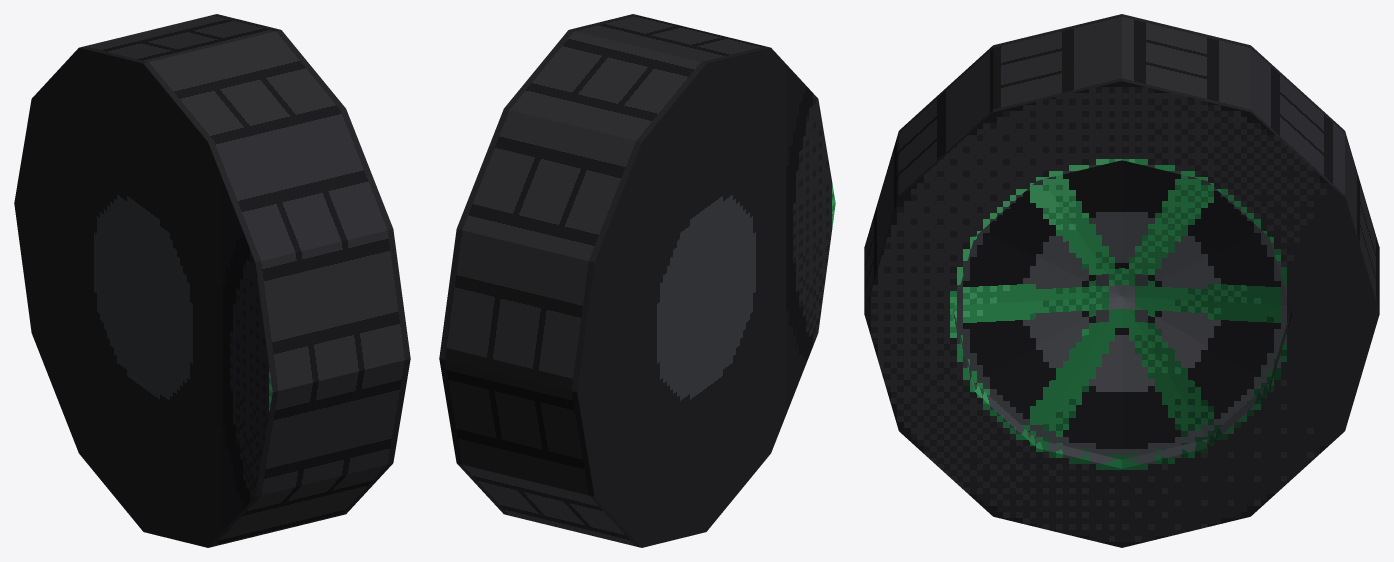
Rendered from wheel_six.glb.
3 views of the same model, side by side, from view 1: azimuth 30°, elevation 25°; view 2: azimuth 150°, elevation 25°; view 3: azimuth 270°, elevation 25° (orthographic).
Visible parts, largest first — view 1: wheel_six; view 2: wheel_six; view 3: wheel_six.
Boxes of the visible parts, <box> form: wheel_six: <box>14,14,410,547</box>; wheel_six: <box>439,14,835,547</box>; wheel_six: <box>864,14,1379,547</box>.
Size of the model in its own units: 0.225 by 0.7301 by 0.7301.
Materials: 1 (1 with a texture image).
